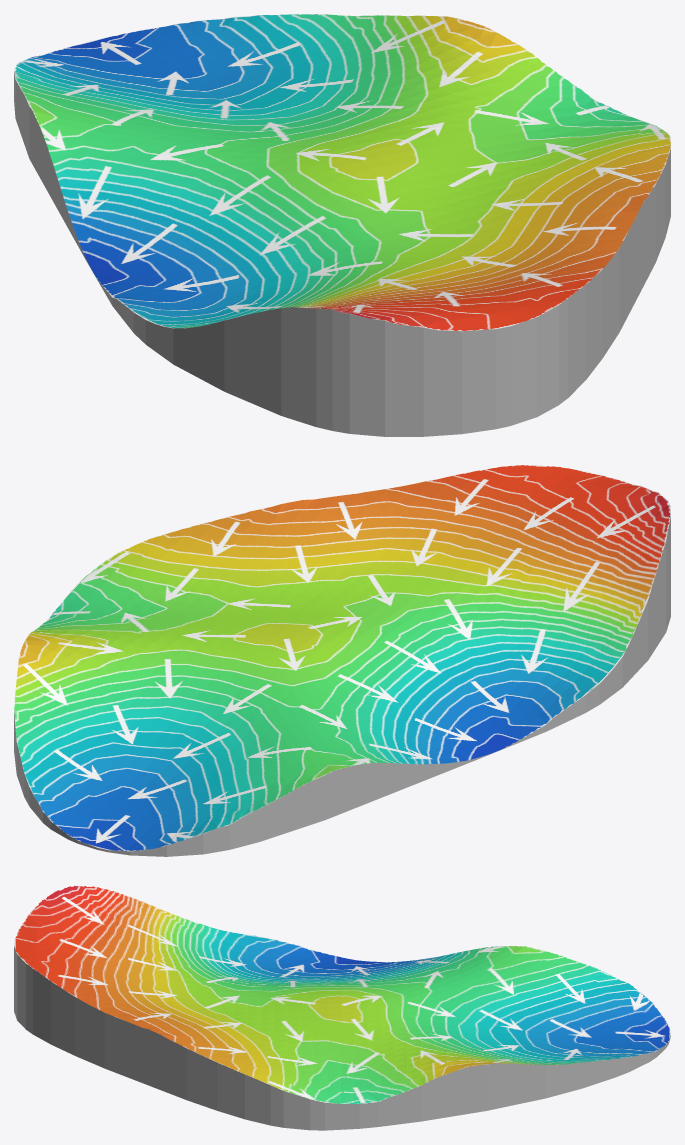
3 views of the same model, one above another, from view 1: azimuth 30°, elevation 25°; view 2: azimuth 150°, elevation 25°; view 3: azimuth 270°, elevation 25° (orthographic). The views are drawn at different scales.
Size of the model in its own units: 3.07 by 0.6366 by 4.72.
2 materials, 1 textured.
